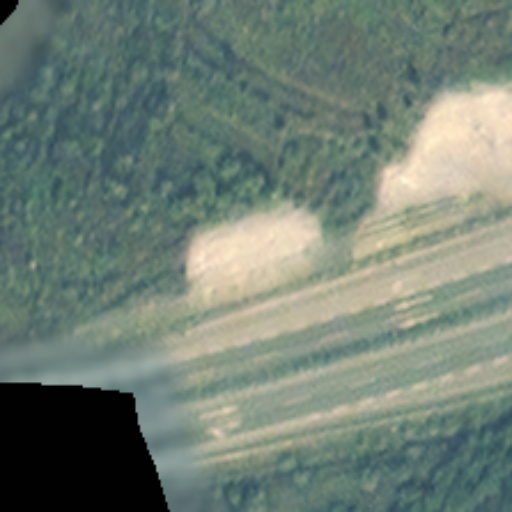landslide: (378, 89, 511, 212), (181, 203, 329, 273)
